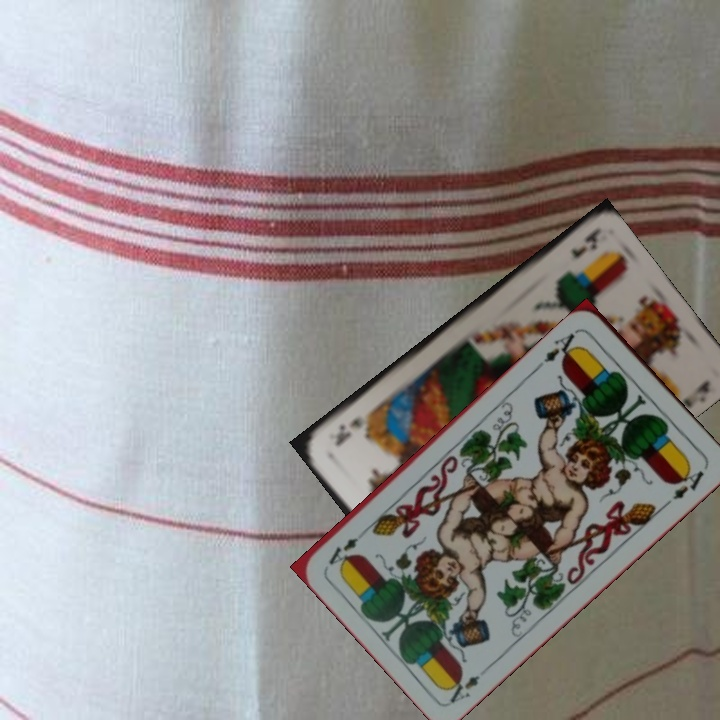EA: (539, 326, 583, 366), (442, 670, 483, 706)
EK: (566, 227, 601, 261)
